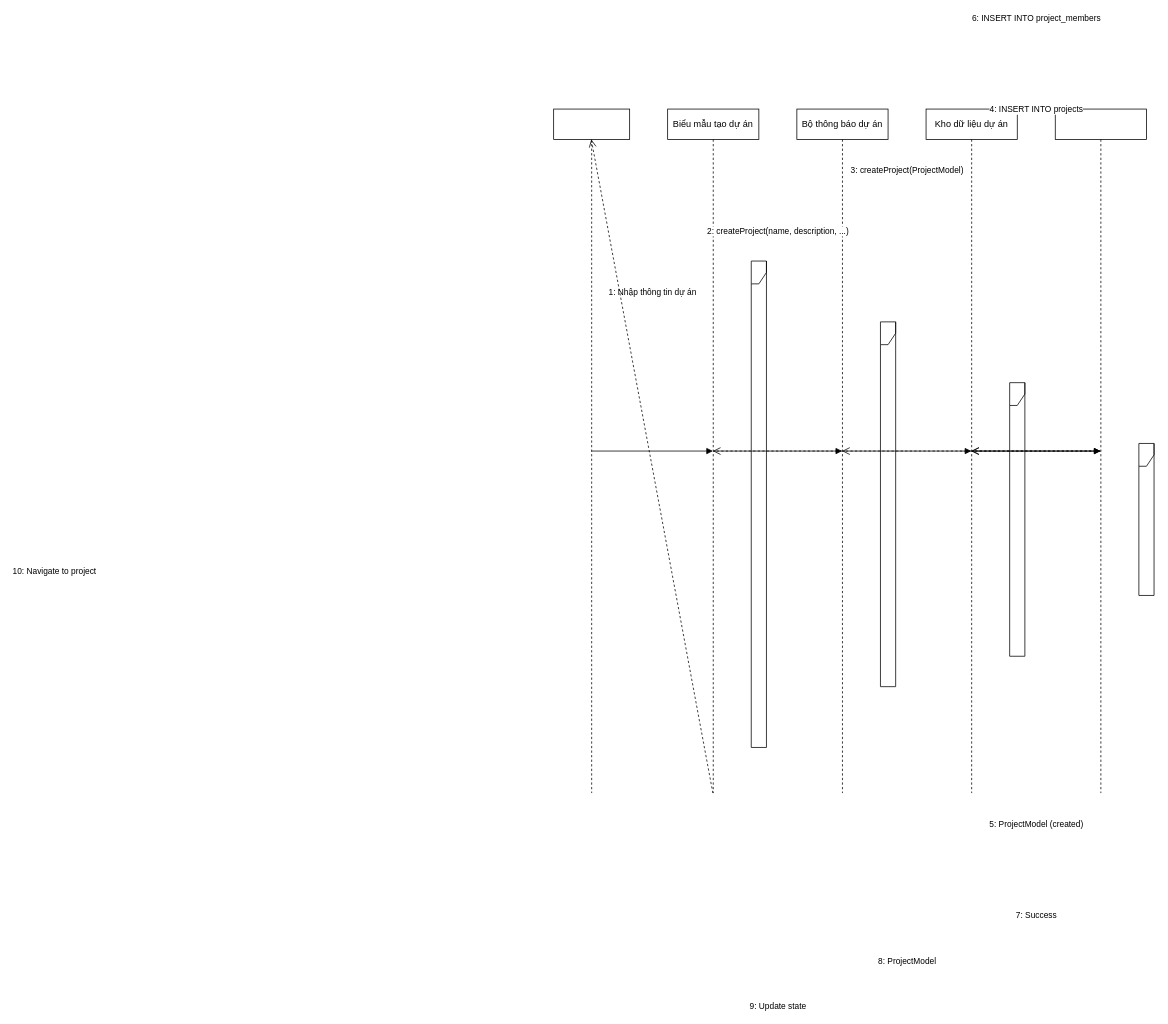
This 1168x1024 diagram has some shape labels left out. The shapes that lost their labels are listed below. From the top down, each one's box as (x1, y1, x2, y2) in pixels, then its label:
(553, 108, 630, 793): Người dùng
(1054, 108, 1146, 793): Supabase
